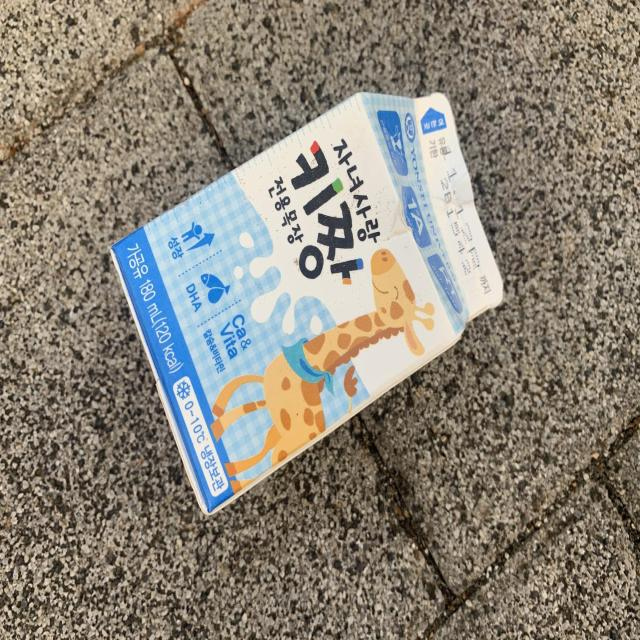paperpack: (110, 92, 504, 514)
